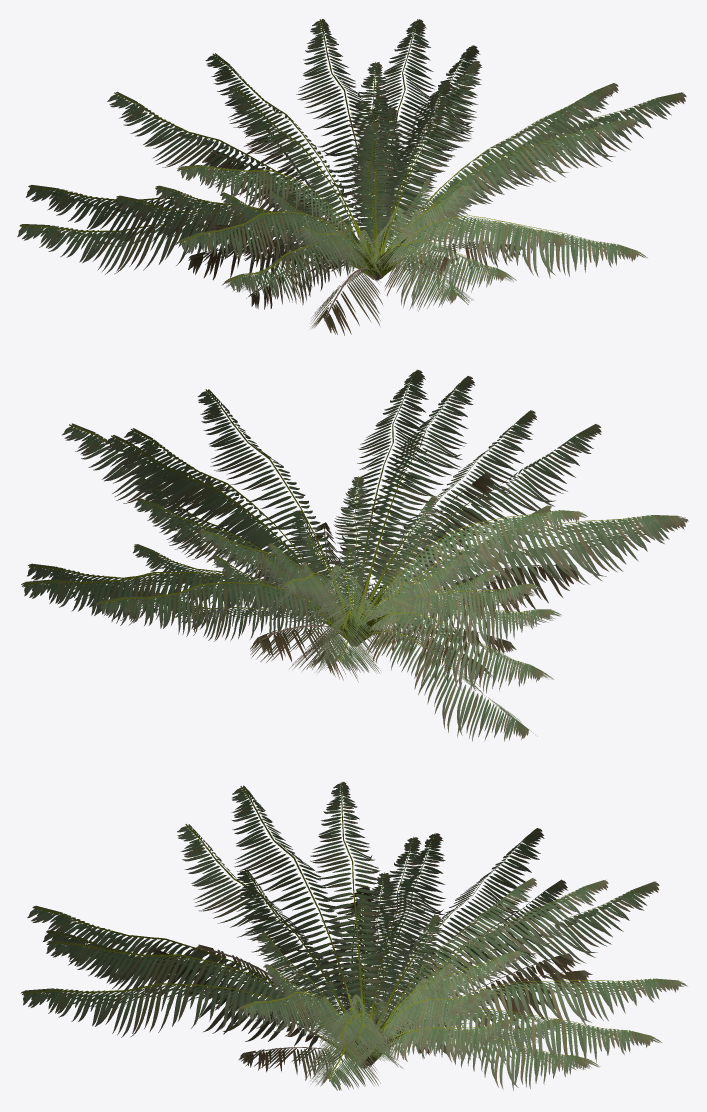
File: Fern 01.obj
3 renders of one model, top to bottom at view 1: azimuth 30°, elevation 25°; view 2: azimuth 150°, elevation 25°; view 3: azimuth 270°, elevation 25°, orthographic. The views are drawn at different scales.
Parts seen in each view (by area): view 1: fern leaf 01, fern leaf 02, stem 02; view 2: fern leaf 01, fern leaf 02, stem 02; view 3: fern leaf 01, fern leaf 02, stem 02.
Part boxes in pixels (x1=…): fern leaf 01: x1=17, y1=19, x2=686, y2=311; fern leaf 02: x1=188, y1=121, x2=526, y2=335; stem 02: x1=330, y1=205, x2=425, y2=280; fern leaf 01: x1=21, y1=370, x2=688, y2=741; fern leaf 02: x1=250, y1=473, x2=578, y2=684; stem 02: x1=298, y1=558, x2=403, y2=646; fern leaf 01: x1=20, y1=782, x2=687, y2=1090; fern leaf 02: x1=147, y1=886, x2=592, y2=1080; stem 02: x1=310, y1=981, x2=415, y2=1068.
Size of the model in its own units: 122 by 35.24 by 119.
Materials: 3 (3 with a texture image).
